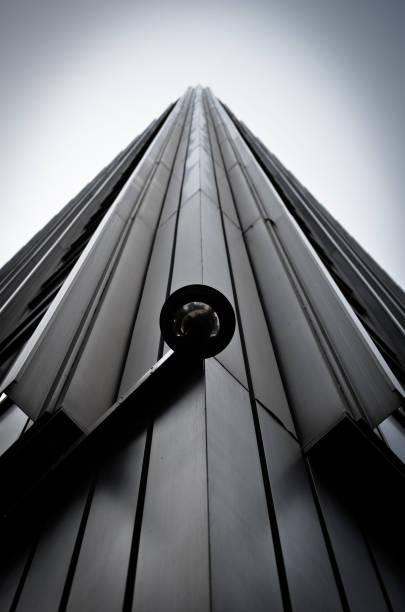camera: (138, 268, 243, 373)
